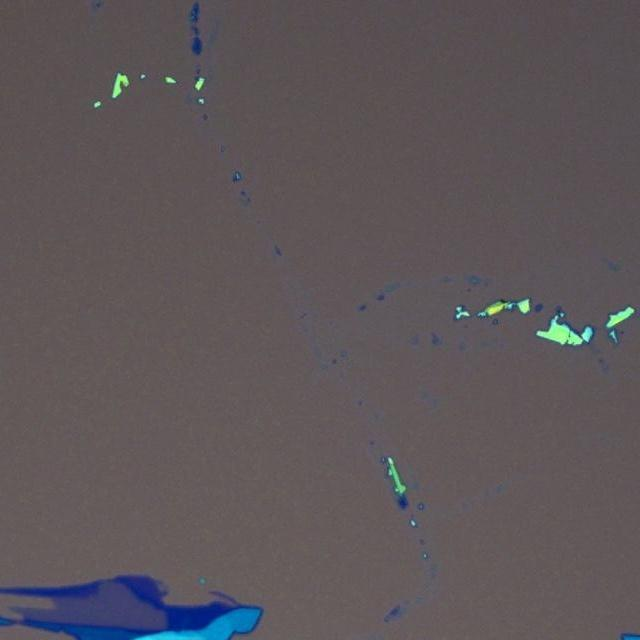monolayer-eWW4: (7, 577, 168, 632)
